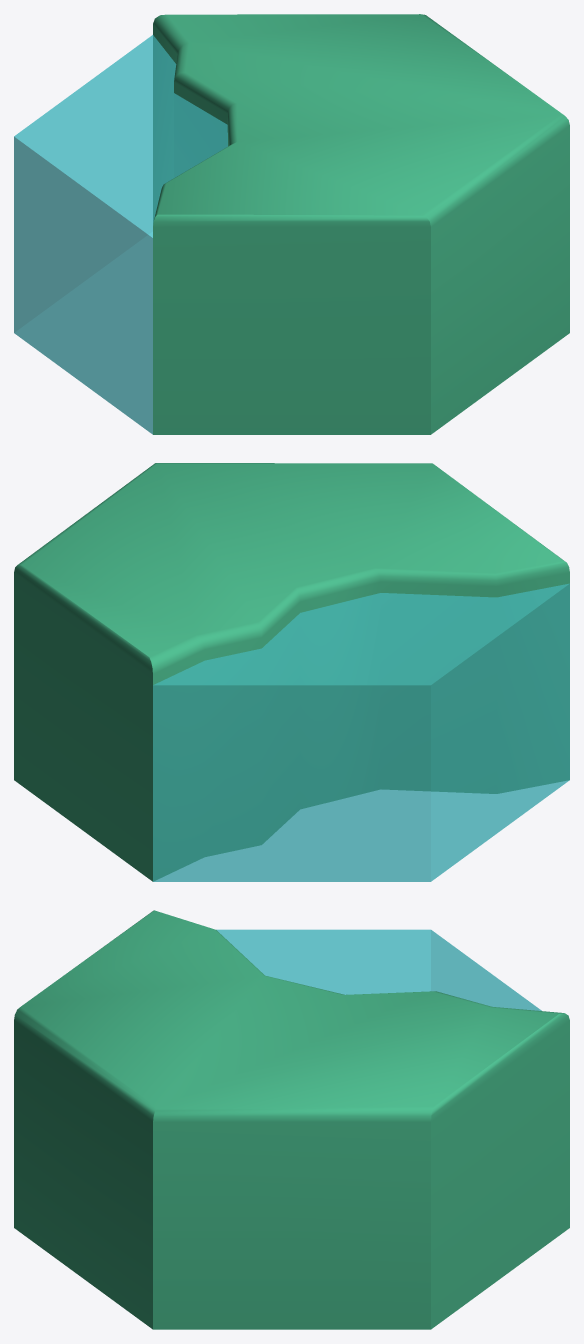
File: hex_forest_waterD.fbx
3 views of the same model, one above another, from view 1: azimuth 30°, elevation 25°; view 2: azimuth 150°, elevation 25°; view 3: azimuth 270°, elevation 25° (orthographic).
Visible parts, largest first — view 1: hex_forest_waterD; view 2: hex_forest_waterD; view 3: hex_forest_waterD.
Boxes of the visible parts, box(x1,y1,x2,y2) form: hex_forest_waterD: box(14, 14, 569, 434); hex_forest_waterD: box(14, 463, 569, 881); hex_forest_waterD: box(14, 910, 569, 1329).
Size of the model in its own units: 200 by 100 by 231.
